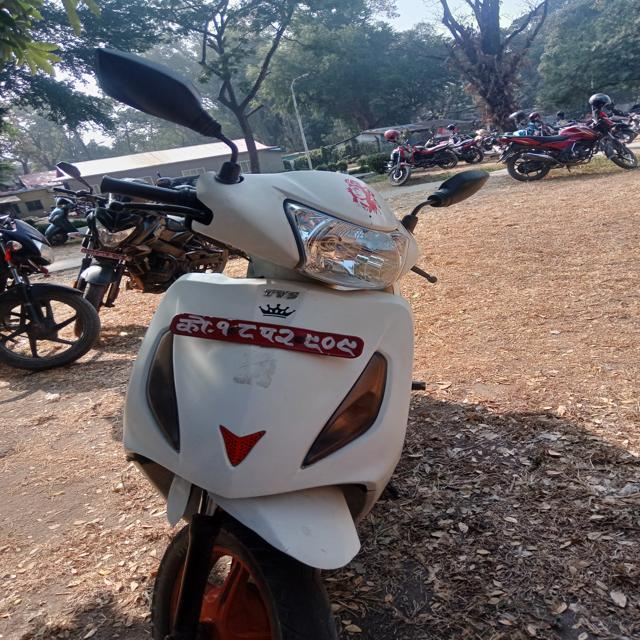license_plate: (118, 283, 448, 373)
